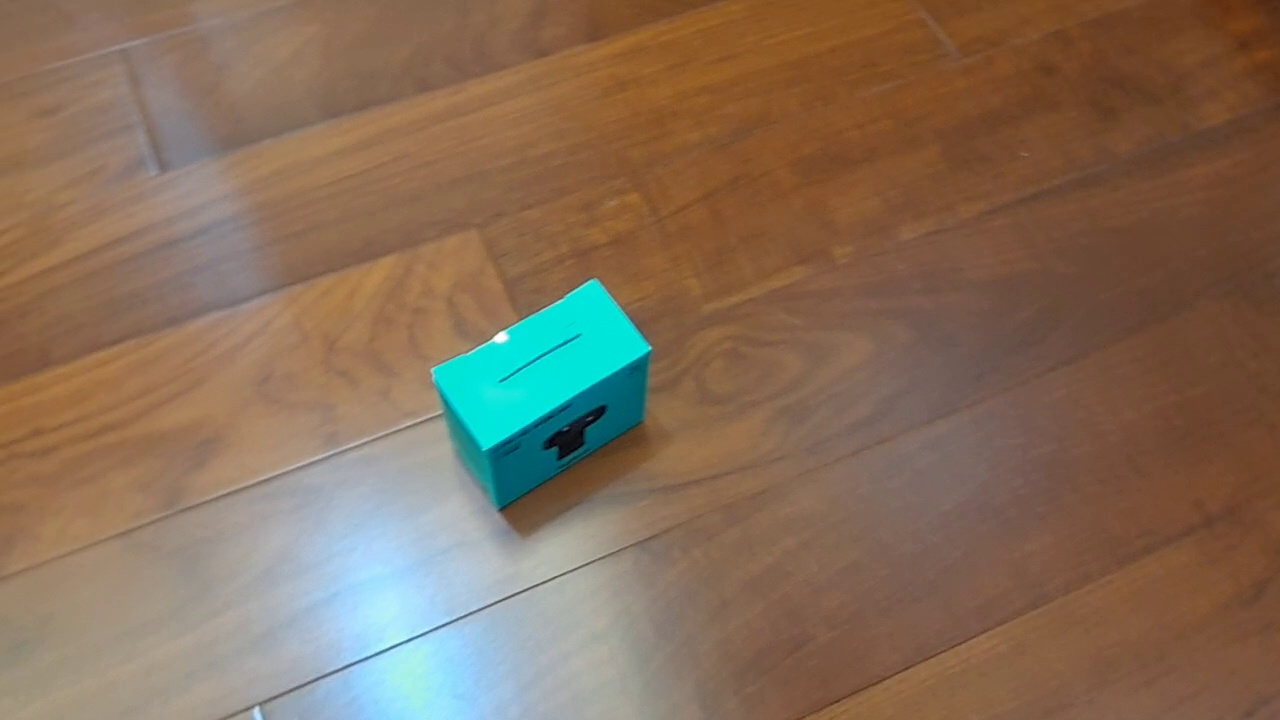webcam: (429, 276, 654, 513)
